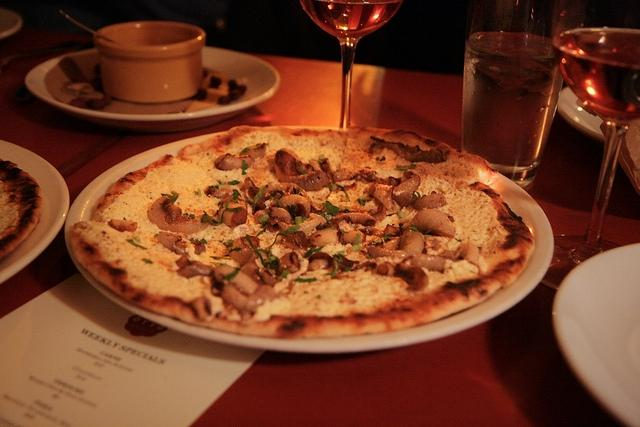mushroom: (368, 230, 446, 271), (273, 148, 336, 192), (148, 196, 210, 233), (221, 283, 282, 310), (257, 182, 313, 210), (213, 265, 260, 296), (408, 210, 456, 238), (392, 172, 421, 208), (436, 242, 479, 266), (392, 263, 428, 291), (310, 228, 364, 246), (280, 194, 310, 222), (213, 153, 254, 171), (158, 231, 188, 254), (331, 212, 376, 227), (414, 192, 446, 212), (222, 208, 248, 227), (278, 252, 300, 274), (308, 252, 333, 271), (108, 218, 138, 233), (228, 247, 252, 265), (260, 264, 278, 288), (372, 189, 392, 209), (204, 186, 234, 199), (240, 144, 266, 158), (382, 236, 401, 250), (339, 220, 354, 232)
